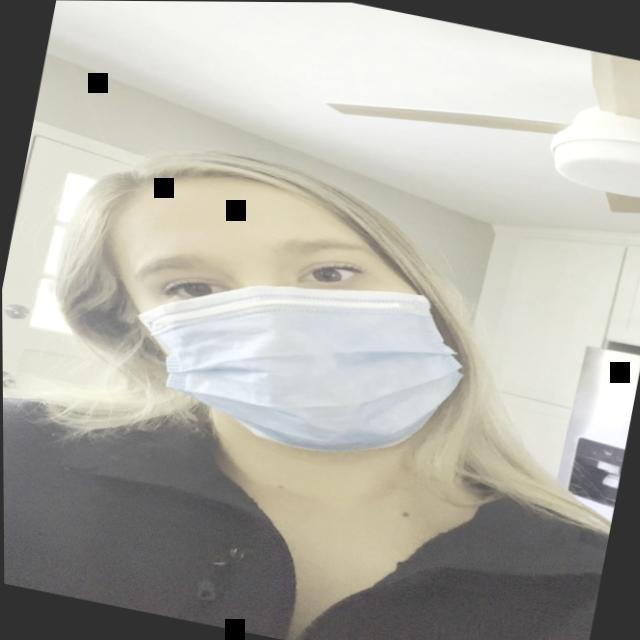Mask: (34, 140, 506, 491)
